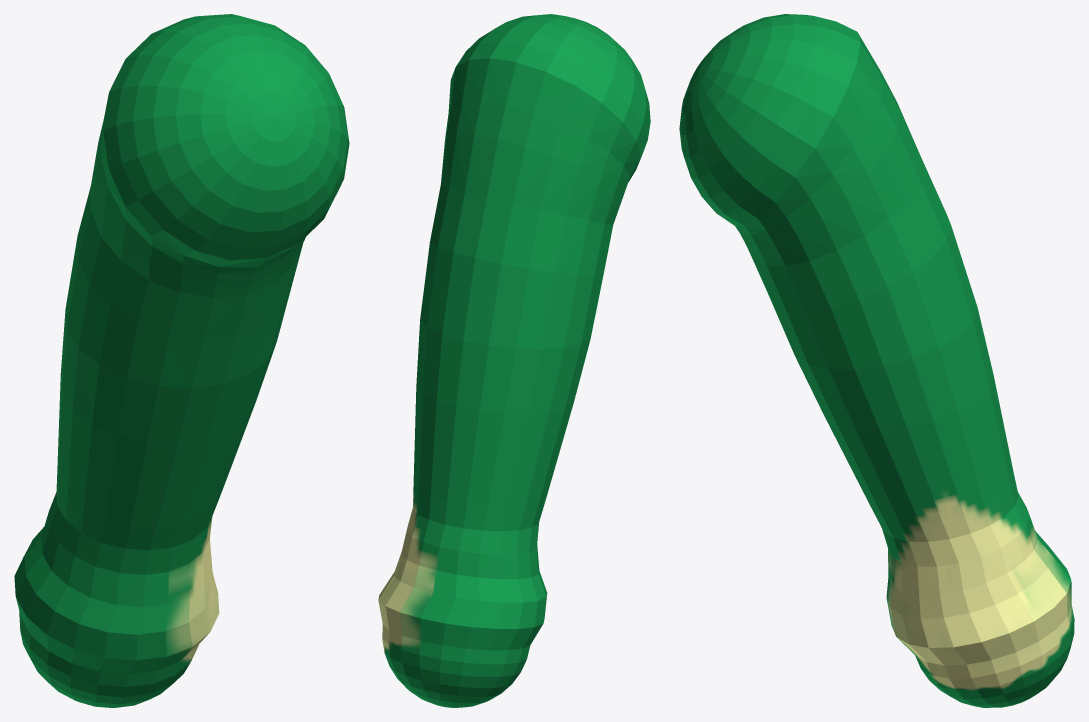
File: Peridot pierna derecha.obj
The picture shows the model from 3 angles, left to right: view 1: azimuth 30°, elevation 25°; view 2: azimuth 150°, elevation 25°; view 3: azimuth 270°, elevation 25°; orthographic projection. The views are drawn at different scales.
Visible parts, largest first — view 1: Pierna_derecha; view 2: Pierna_derecha; view 3: Pierna_derecha.
Boxes of the visible parts, x1=… form: Pierna_derecha: x1=14, y1=14, x2=349, y2=707; Pierna_derecha: x1=378, y1=14, x2=650, y2=707; Pierna_derecha: x1=679, y1=14, x2=1074, y2=707.
Size of the model in its own units: 1.1 by 3.54 by 1.88.
